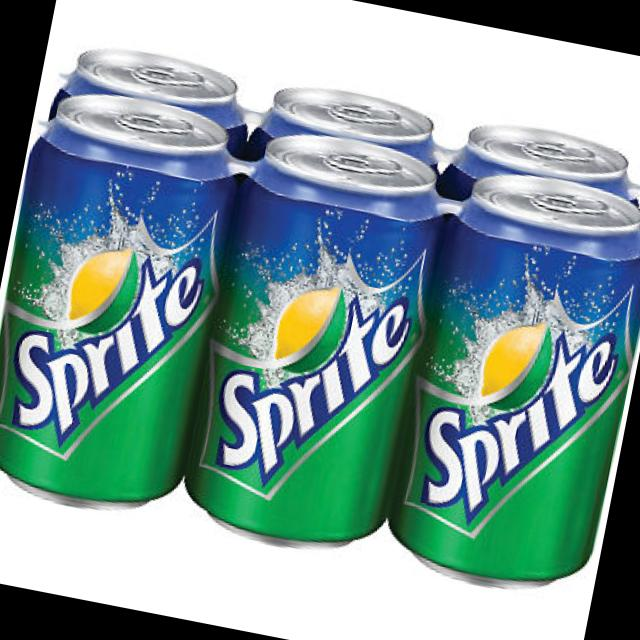sprite: (182, 130, 458, 560), (386, 169, 640, 602), (0, 92, 250, 527)
